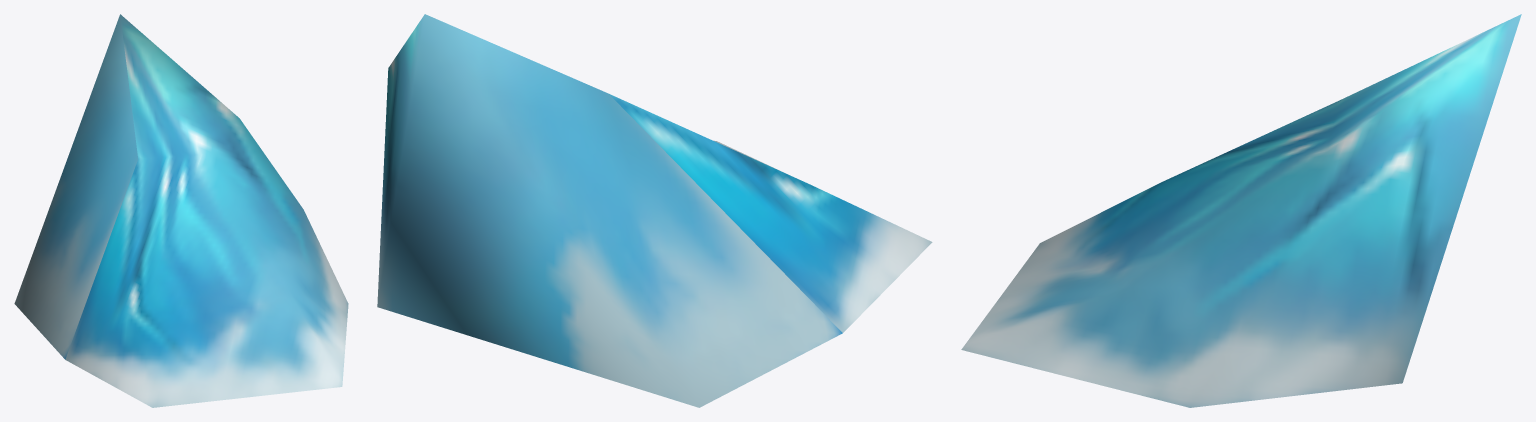
File: BingZui03.FBX
The picture shows the model from 3 angles, left to right: view 1: azimuth 30°, elevation 25°; view 2: azimuth 150°, elevation 25°; view 3: azimuth 270°, elevation 25°; orthographic projection. The views are drawn at different scales.
Parts seen in each view (by area): view 1: BingZui03; view 2: BingZui03; view 3: BingZui03.
Boxes of the visible parts, x1,y1,x2,y2 form: BingZui03: [14, 14, 348, 407]; BingZui03: [377, 14, 932, 407]; BingZui03: [961, 14, 1521, 407].
Size of the model in its own units: 99.13 by 83.14 by 130.
